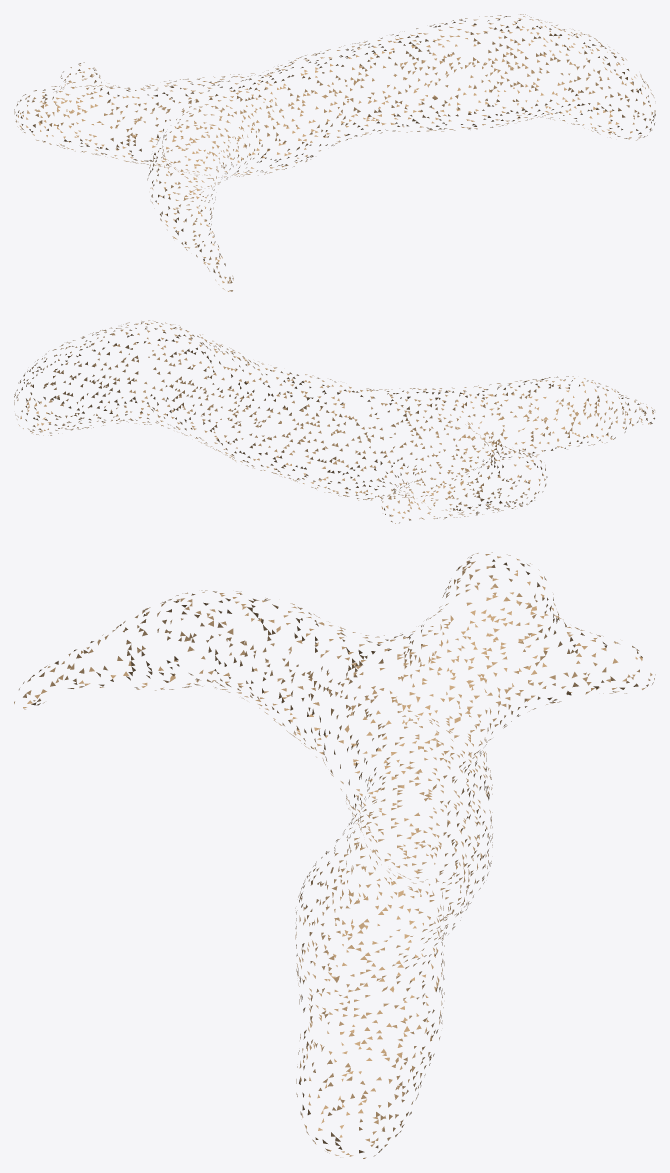
The model's file is morph_006.glb.
The picture shows the model from 3 angles, top to bottom: view 1: azimuth 30°, elevation 25°; view 2: azimuth 150°, elevation 25°; view 3: azimuth 270°, elevation 25°; orthographic projection. The views are drawn at different scales.
Bounding box in the file's own units: 118 × 27.32 × 75.9.
